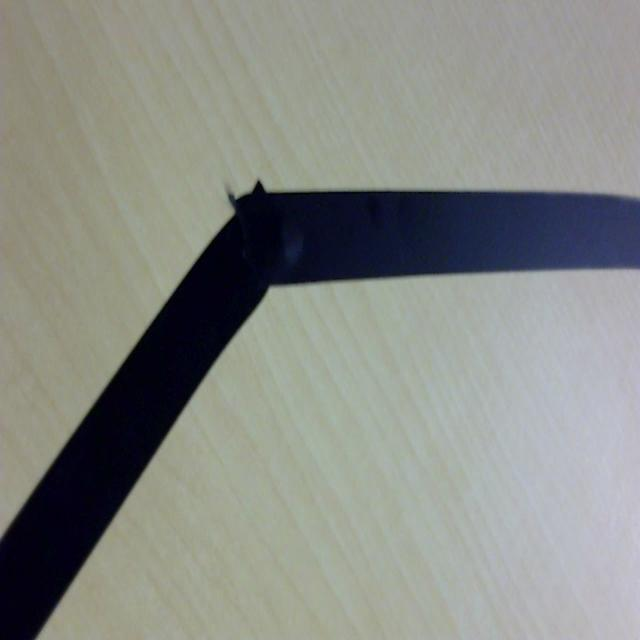tape: (0, 155, 640, 640)
